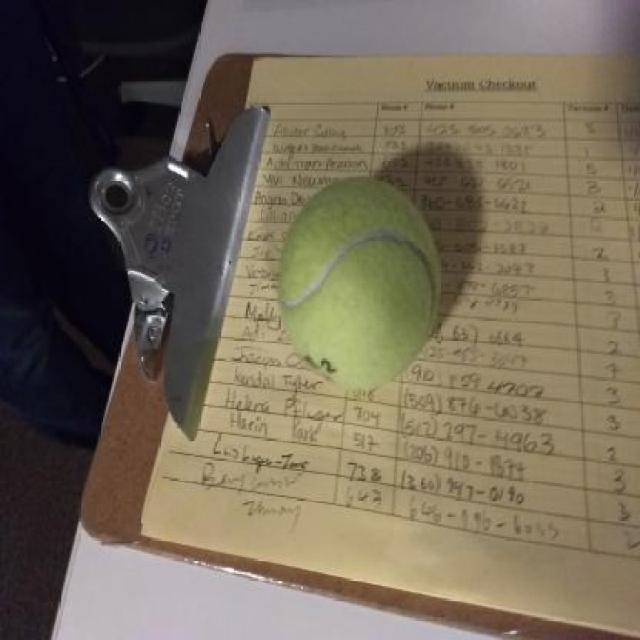Tennis_Ball: (271, 178, 449, 380)
